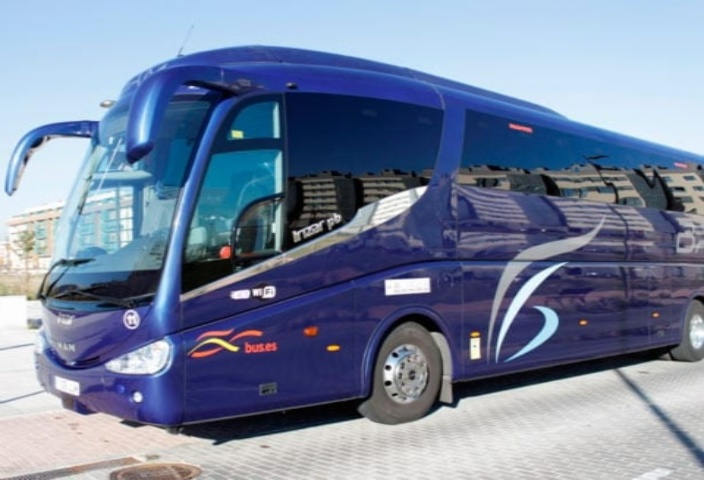bus: (2, 31, 704, 436)
